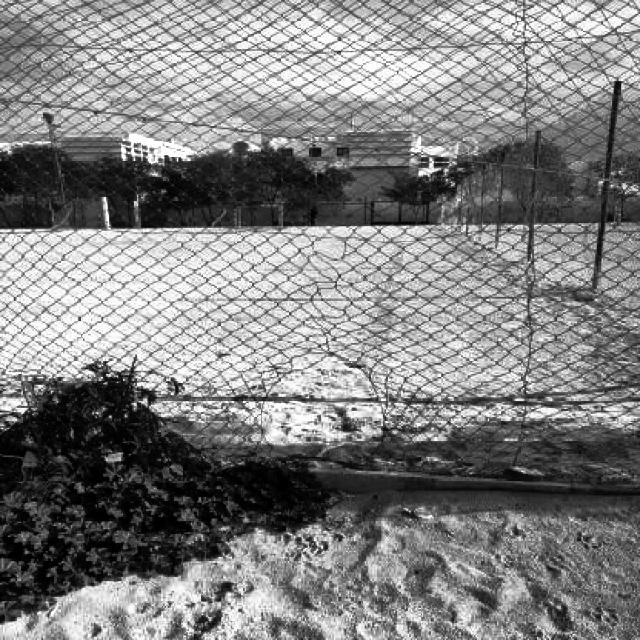anomaly-fence: (195, 331, 412, 467), (268, 213, 367, 268)
